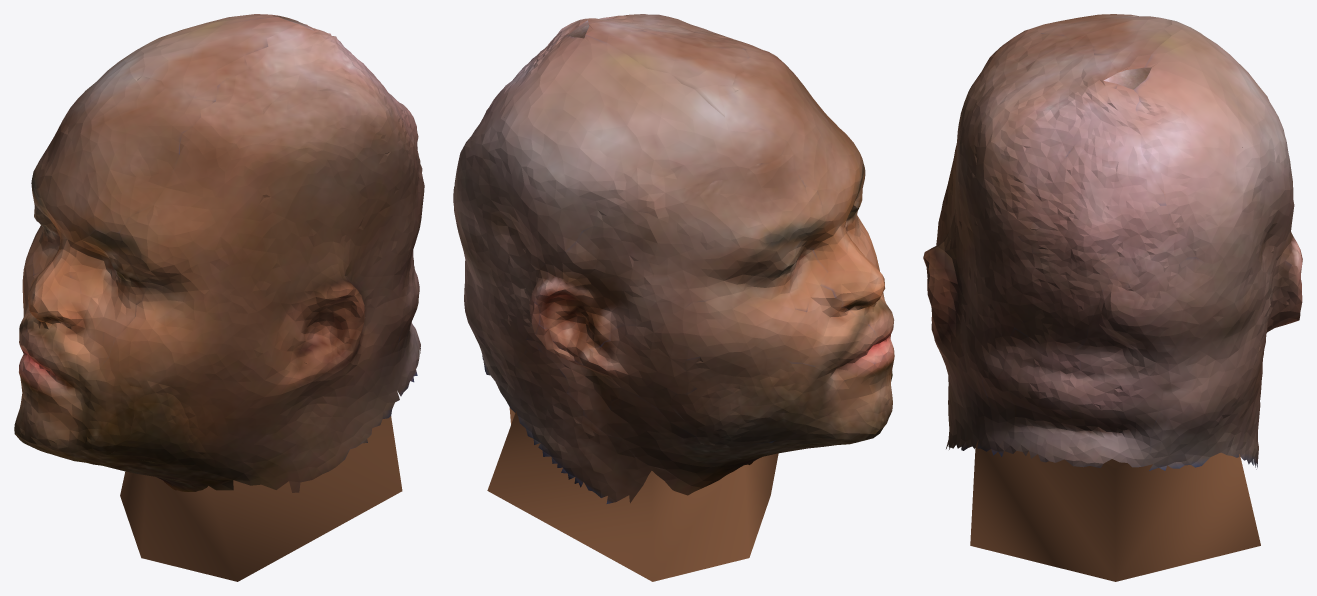
Rendered from Jesse.glb.
The picture shows the model from 3 angles, left to right: view 1: azimuth 30°, elevation 25°; view 2: azimuth 150°, elevation 25°; view 3: azimuth 270°, elevation 25°; orthographic projection. The views are drawn at different scales.
Parts seen in each view (by area): view 1: Hatline; view 2: Hatline; view 3: Hatline.
Boxes of the visible parts, bbox=[...] form: Hatline: bbox=[14, 14, 424, 581]; Hatline: bbox=[453, 14, 894, 581]; Hatline: bbox=[923, 14, 1302, 581].
Bounding box in the file's own units: 0.2071 × 0.2433 × 0.1577.
2 materials, 1 textured.
